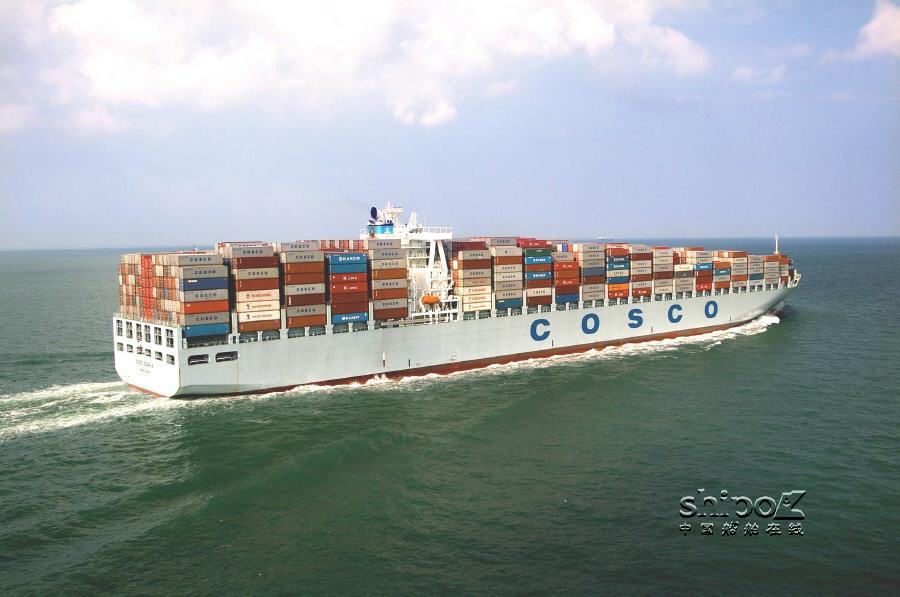Cargoship: (104, 197, 807, 405)
